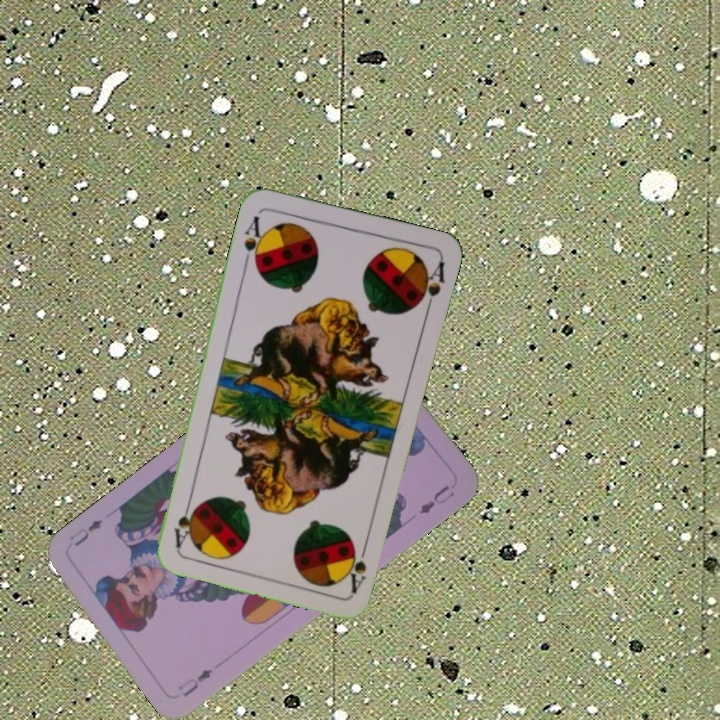EU: (174, 665, 216, 699)
SA: (239, 211, 269, 270), (343, 536, 371, 595)
